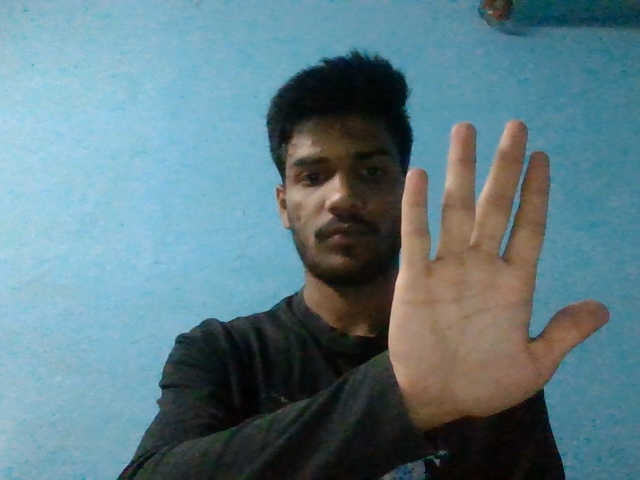Hello: (388, 118, 613, 417)
